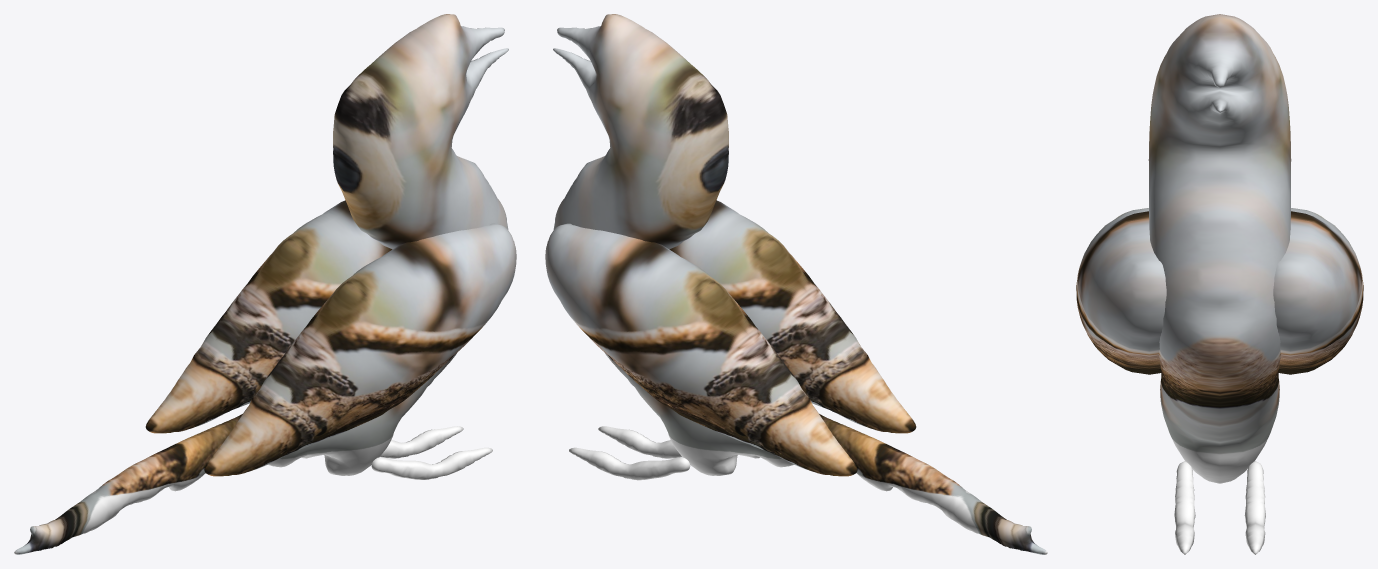
File: RufousHornbill.obj
3 renders of one model, left to right at view 1: azimuth 30°, elevation 25°; view 2: azimuth 150°, elevation 25°; view 3: azimuth 270°, elevation 25°, orthographic. The views are drawn at different scales.
Visible parts, largest first — view 1: Mesh_0; view 2: Mesh_0; view 3: Mesh_0.
Part boxes in pixels (left/top/right/bottom): Mesh_0: left=14, top=14, right=516, bottom=554; Mesh_0: left=545, top=14, right=1047, bottom=554; Mesh_0: left=1076, top=14, right=1363, bottom=554.
Bounding box in the file's own units: 6.11 × 5.25 × 2.55.
